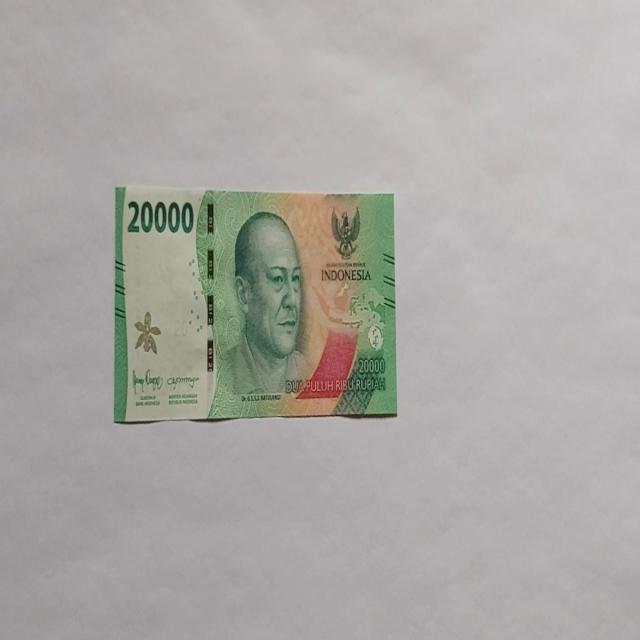dua puluh ribu rupiah: (113, 183, 397, 424), (214, 208, 313, 410)
